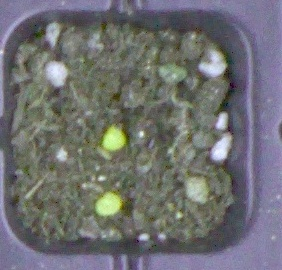chilli seed: (93, 190, 123, 217), (101, 125, 126, 150)
